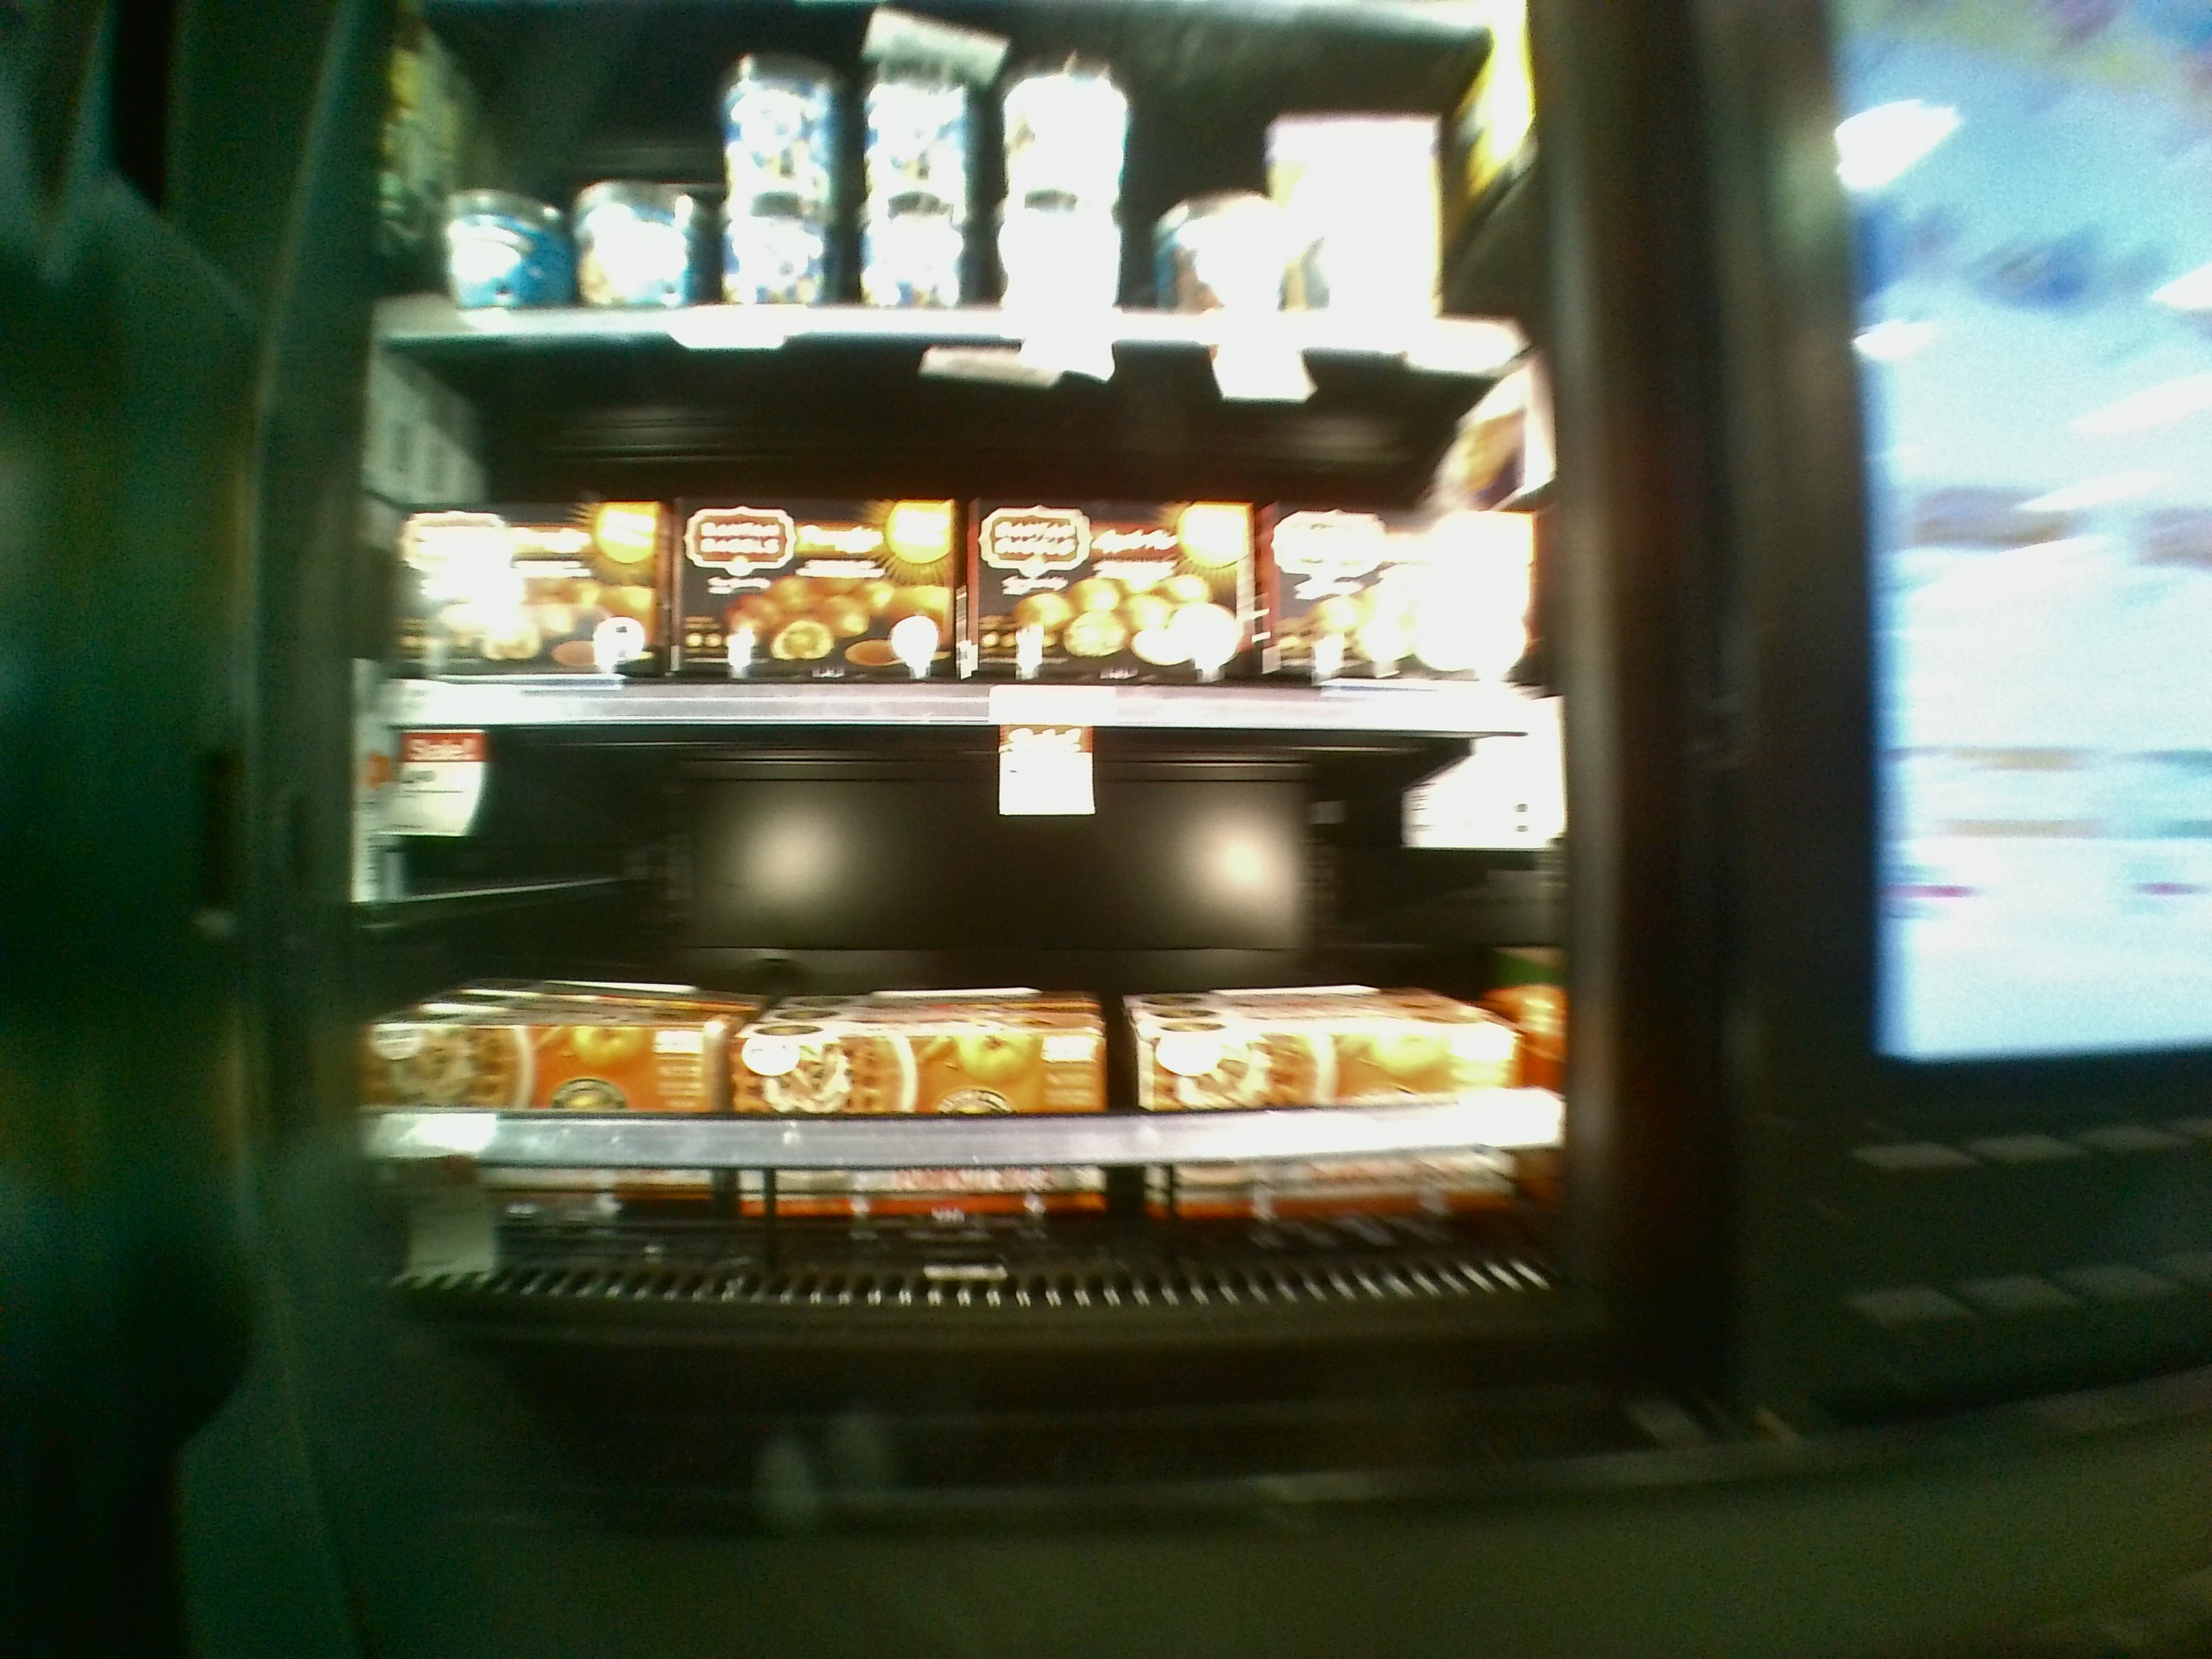shelf: (345, 732, 1566, 1319), (383, 331, 1569, 732)
